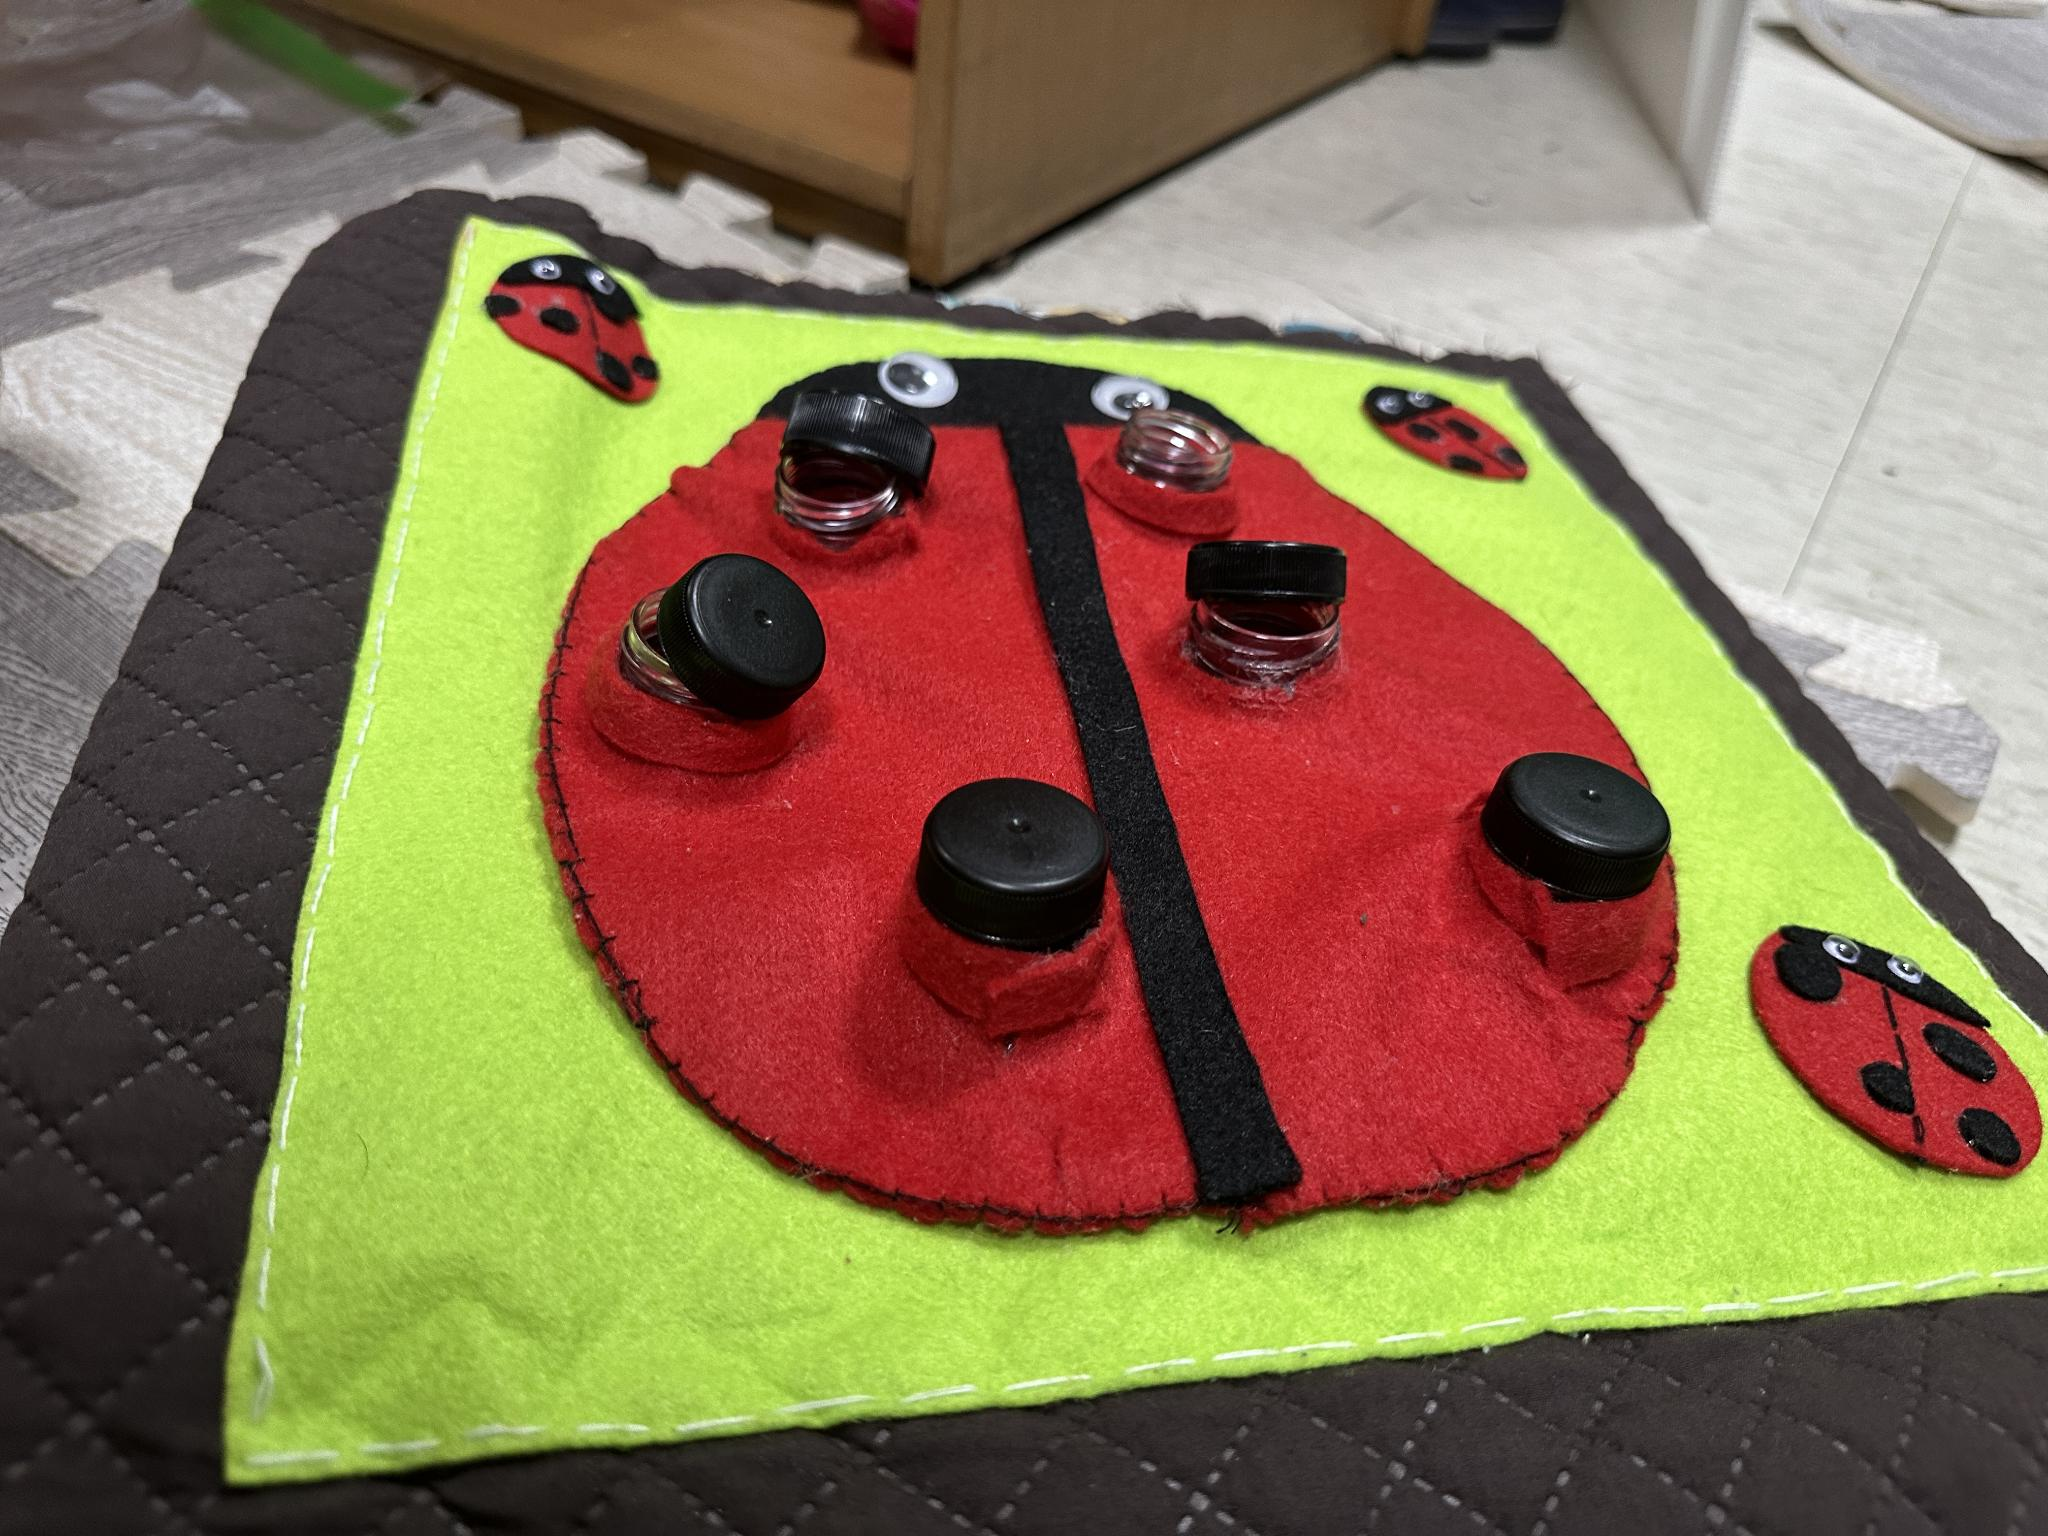cap_ng: (568, 544, 863, 795), (1148, 523, 1403, 736), (763, 374, 971, 578)
cap_ok: (1429, 715, 1690, 1002), (887, 745, 1119, 1050)
